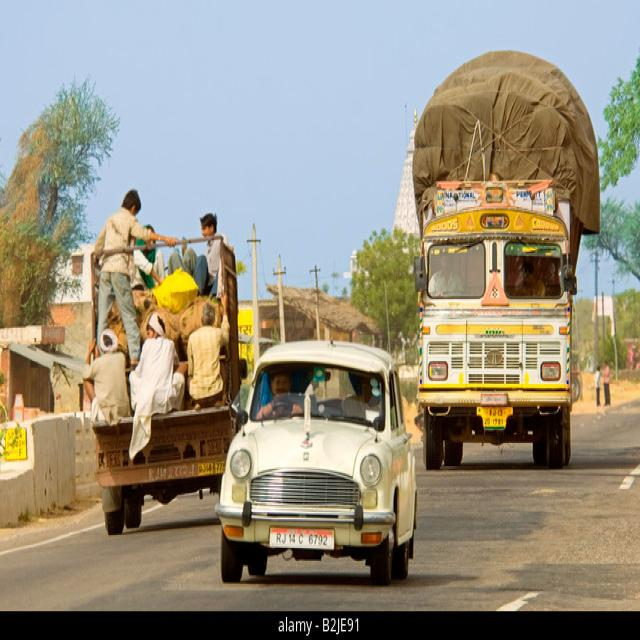goods: (414, 52, 600, 276)
truck: (418, 178, 576, 472)
